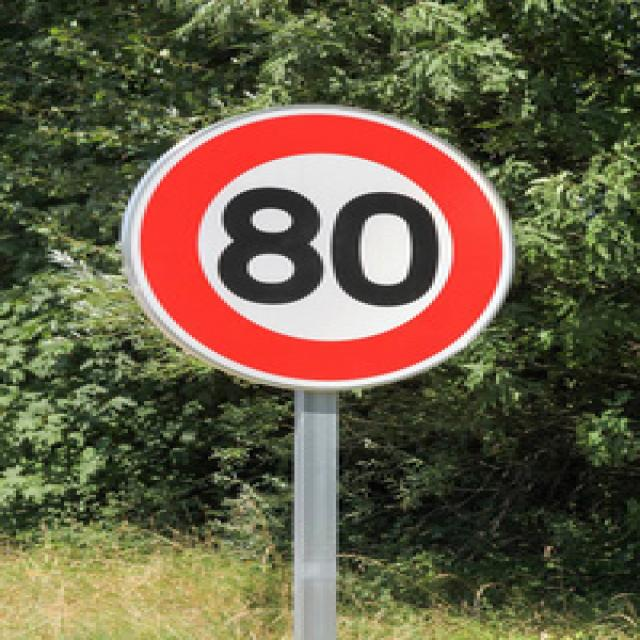speed limit 80: (121, 105, 514, 389)
